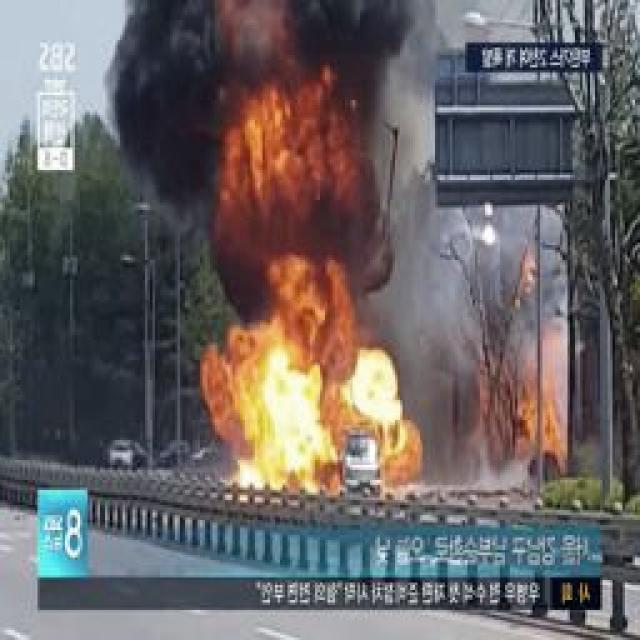Fire: (216, 316, 401, 497)
